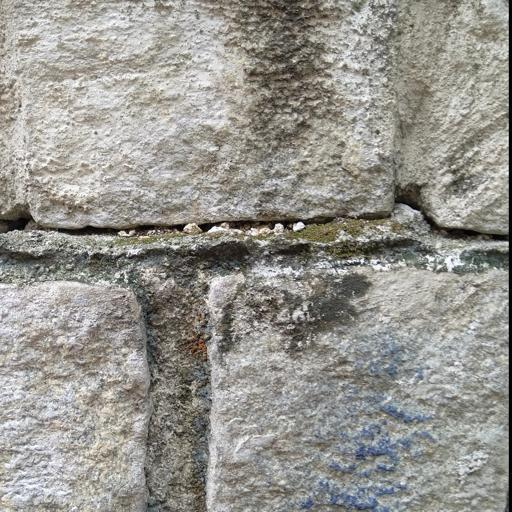major_crack: (0, 170, 506, 270)
